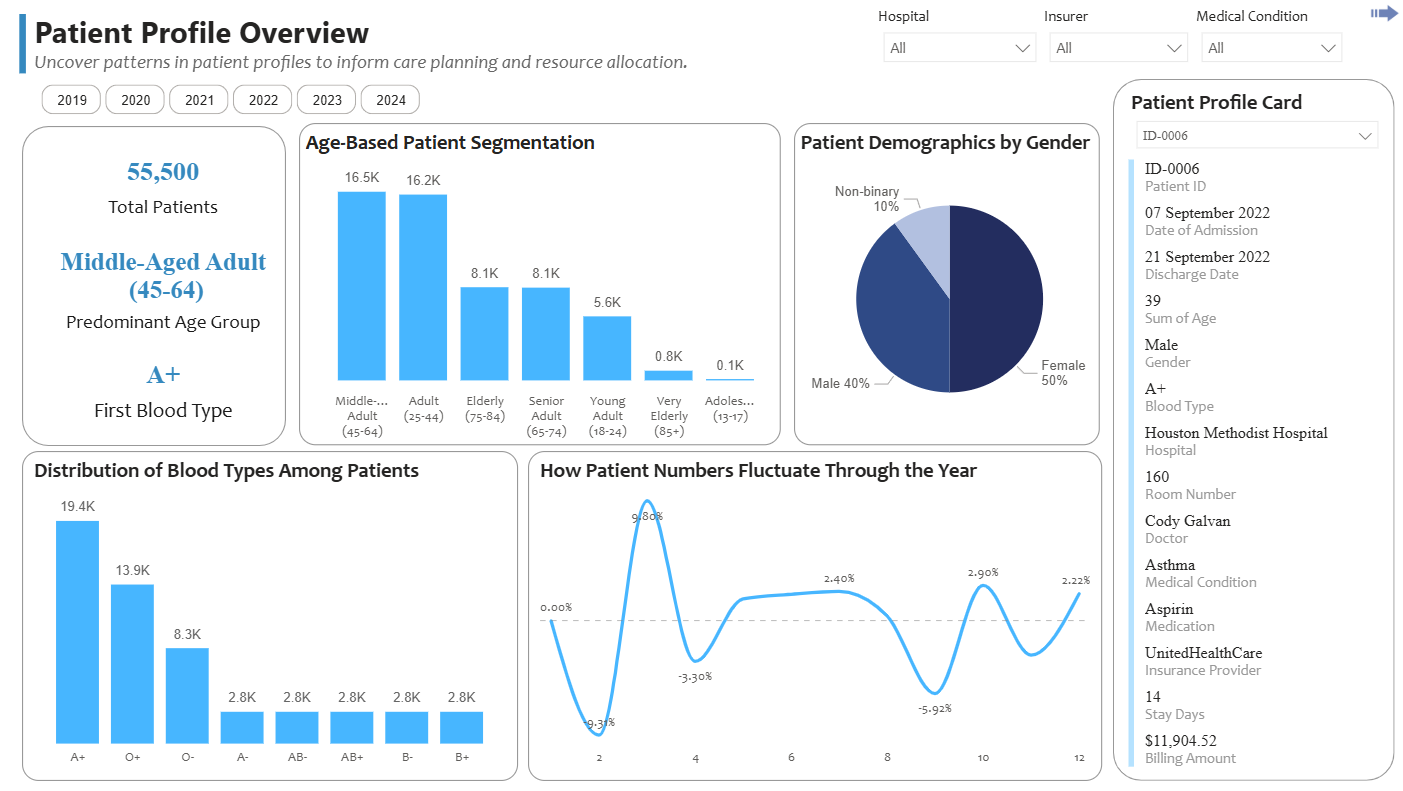

The dashboard page shown, as its layout file describes it:
{"tool":"powerbi","page":{"name":"Patient","canvas":[1280,720],"ordinal":1},"visuals":[{"type":"shape","box":[1013,73,256,638],"z":0},{"type":"shape","box":[21,115,240,291],"z":0,"group":"g3"},{"type":"card","fields":{"Values":["Count(Healthcare.Patient ID)"]},"box":[47,121,200,92],"z":0,"group":"g1"},{"type":"multiRowCard","fields":{"Values":["Healthcare.Patient ID","Healthcare.Date of Admission","Healthcare.Discharge Date","Sum(Healthcare.Age)","Healthcare.Gender","Healthcare.Blood Type","Healthcare.Hospital","Healthcare.Room Number","Healthcare.Doctor","Healthcare.Medical Condition","Healthcare.Medication","Healthcare.Insurance Provider"]},"box":[1022,141,235,562],"z":0,"group":"g2"},{"type":"textbox","title":"Patient Profile Overview","box":[27,6,620,62],"z":1000},{"type":"slicer","title":"Patient Profile Card","fields":{"Values":["Healthcare.Patient ID"]},"box":[1029,82,230,59],"z":1000,"group":"g2"},{"type":"card","fields":{"Values":["Min(Healthcare.Age Group)"]},"box":[47,216,200,89],"z":1000,"group":"g1"},{"type":"clusteredColumnChart","title":"Age-Based Patient Segmentation","fields":{"Category":["Healthcare.Age Group"],"Y":["Healthcare.Total Patients"]},"box":[273,113,438,293],"z":2000},{"type":"card","fields":{"Values":["Min(Healthcare.Blood Type)"]},"box":[47,306,200,90],"z":2000,"group":"g1"},{"type":"pieChart","title":"Patient Demographics by Gender","fields":{"Category":["Healthcare.Gender"],"Y":["Count(Healthcare.Patient ID)"]},"box":[723,113,278,293],"z":3000},{"type":"clusteredColumnChart","title":"Distribution of Blood Types Among Patients","fields":{"Category":["Healthcare.Blood Type"],"Y":["Healthcare.Total Patients"]},"box":[21,411,451,300],"z":4000},{"type":"lineChart","title":"How Patient Numbers Fluctuate Through the Year","fields":{"Y":["Healthcare.MoM Growth"],"Category":["DateTable.Month Number"]},"box":[481,411,522,300],"z":5000},{"type":"advancedSlicerVisual","title":"Filter by year","fields":{"Values":["Healthcare.Start Year.Variation.Date Hierarchy.Year"]},"box":[34,73,359,37],"z":6000},{"type":"group","id":"g1","title":"Group 1","box":[47,121,200,275],"z":6000,"group":"g3"},{"type":"shape","box":[15,14,12,54],"z":7000},{"type":"group","id":"g2","title":"Group 2","box":[1022,82,237,621],"z":8000},{"type":"group","id":"g3","title":"Group 3","box":[21,115,240,291],"z":9000},{"type":"image","box":[1240,0,40,26],"z":10000},{"type":"slicer","title":"Hospital","fields":{"Values":["Healthcare.Hospital"]},"box":[798,6,151,57],"z":11000,"group":"g4"},{"type":"slicer","title":"Insurer","fields":{"Values":["Healthcare.Insurance Provider"]},"box":[949,6,138,57],"z":12000,"group":"g4"},{"type":"slicer","title":"Medical Condition","fields":{"Values":["Healthcare.Medical Condition"]},"box":[1087,6,140,57],"z":13000,"group":"g4"},{"type":"group","id":"g4","title":"Group 4","box":[798,6,429,57],"z":13001}]}

Visuals, with their boxes in screenshot pixels (x1, y1, x2, y2), scaled from the page's 1280x720 canvas onto the 1403x791 screenshot:
shape: [x1=1110, y1=80, x2=1391, y2=781]
shape: [x1=23, y1=126, x2=286, y2=446]
card - Count(Healthcare.Patient ID): [x1=52, y1=133, x2=271, y2=234]
multiRowCard - Healthcare.Patient ID x Healthcare.Date of Admission: [x1=1120, y1=155, x2=1378, y2=772]
"Patient Profile Overview" textbox: [x1=30, y1=7, x2=709, y2=75]
"Patient Profile Card" slicer: [x1=1128, y1=90, x2=1380, y2=155]
card - Min(Healthcare.Age Group): [x1=52, y1=237, x2=271, y2=335]
"Age-Based Patient Segmentation" clusteredColumnChart: [x1=299, y1=124, x2=779, y2=446]
card - Min(Healthcare.Blood Type): [x1=52, y1=336, x2=271, y2=435]
"Patient Demographics by Gender" pieChart: [x1=792, y1=124, x2=1097, y2=446]
"Distribution of Blood Types Among Patients" clusteredColumnChart: [x1=23, y1=452, x2=517, y2=781]
"How Patient Numbers Fluctuate Through the Year" lineChart: [x1=527, y1=452, x2=1099, y2=781]
"Filter by year" advancedSlicerVisual: [x1=37, y1=80, x2=431, y2=121]
"Group 1" group: [x1=52, y1=133, x2=271, y2=435]
shape: [x1=16, y1=15, x2=30, y2=75]
"Group 2" group: [x1=1120, y1=90, x2=1380, y2=772]
"Group 3" group: [x1=23, y1=126, x2=286, y2=446]
image: [x1=1359, y1=0, x2=1402, y2=29]
"Hospital" slicer: [x1=875, y1=7, x2=1040, y2=69]
"Insurer" slicer: [x1=1040, y1=7, x2=1191, y2=69]
"Medical Condition" slicer: [x1=1191, y1=7, x2=1345, y2=69]
"Group 4" group: [x1=875, y1=7, x2=1345, y2=69]
